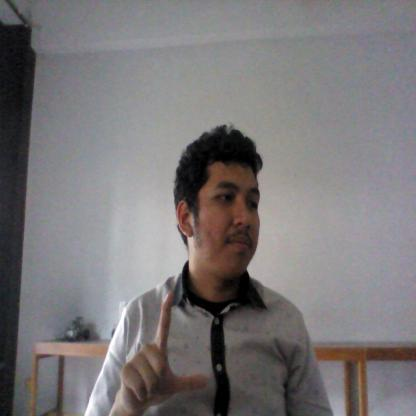L: (116, 282, 212, 412)
